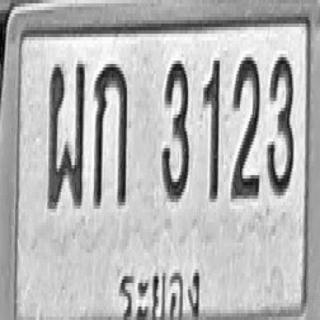A01: (93, 61, 128, 205)
A28: (47, 61, 85, 209)
N01: (202, 57, 220, 202)
N02: (231, 54, 260, 199)
N03: (161, 57, 189, 202), (267, 54, 293, 196)
P53: (113, 259, 204, 320)
